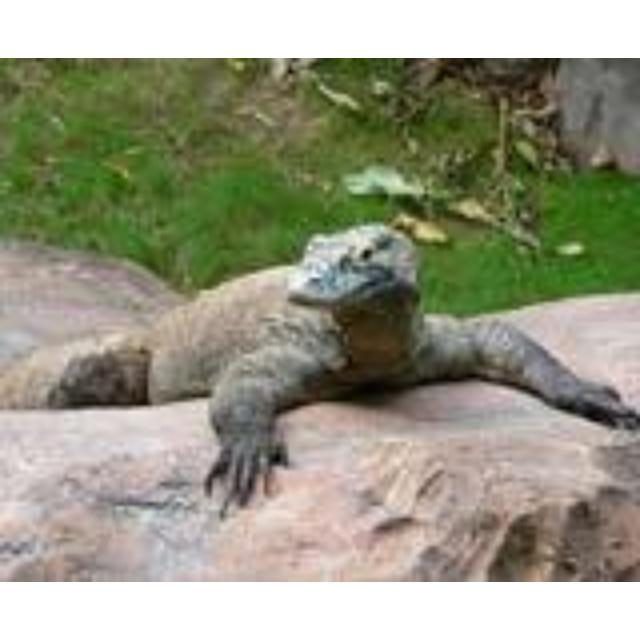KomodoDragon: (4, 214, 632, 514)
